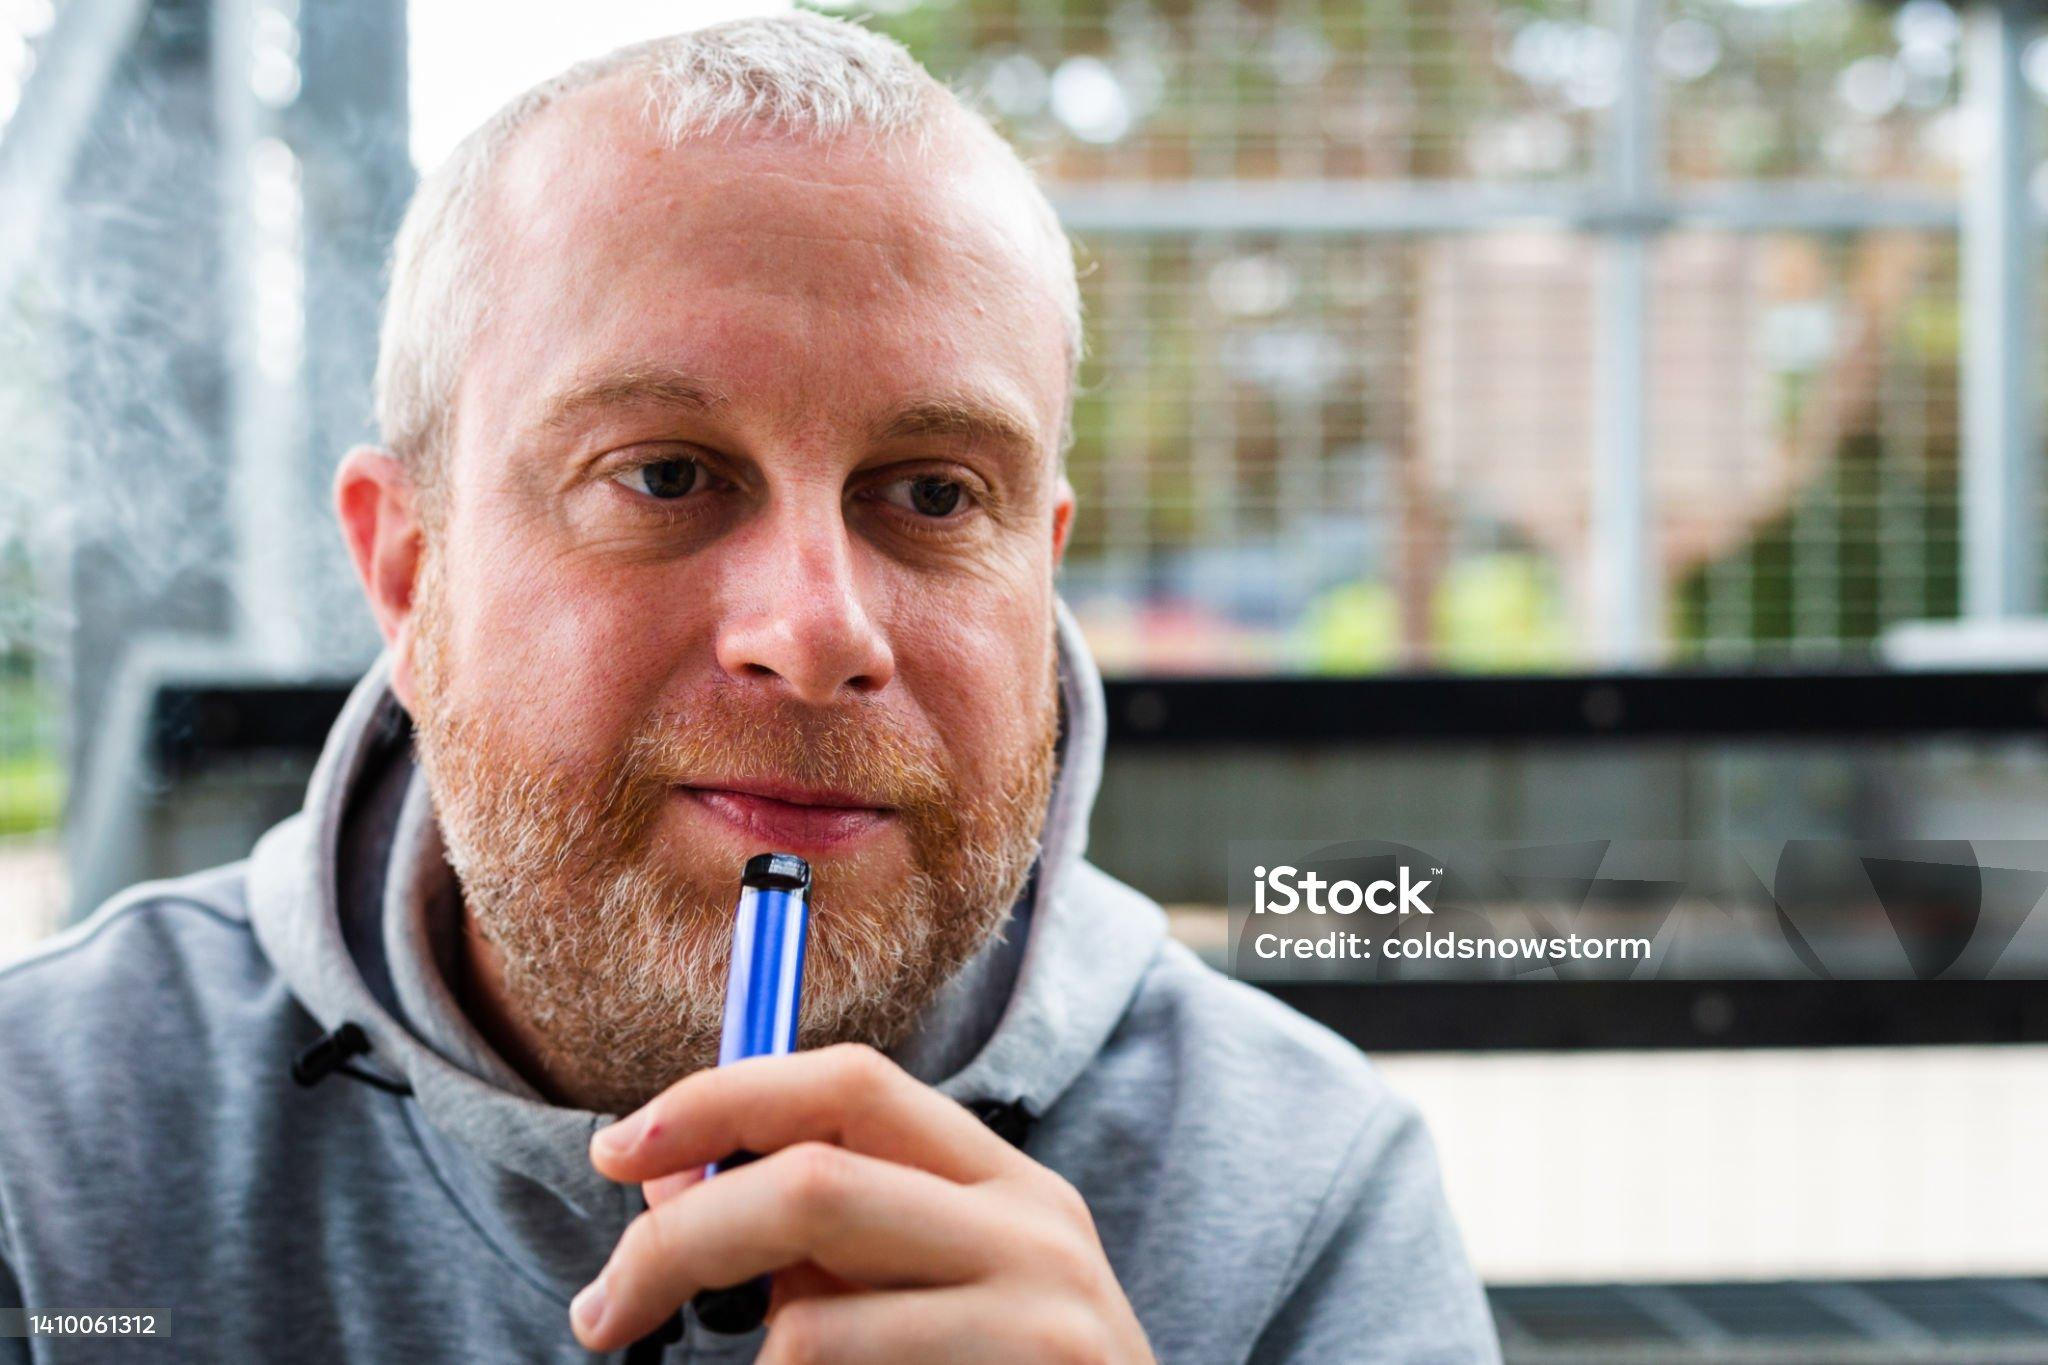Vape: (691, 852, 812, 1339)
